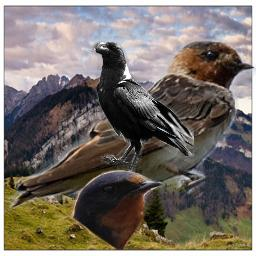Crow: (90, 39, 194, 172)
Swallow: (4, 36, 256, 219), (71, 169, 165, 250)
